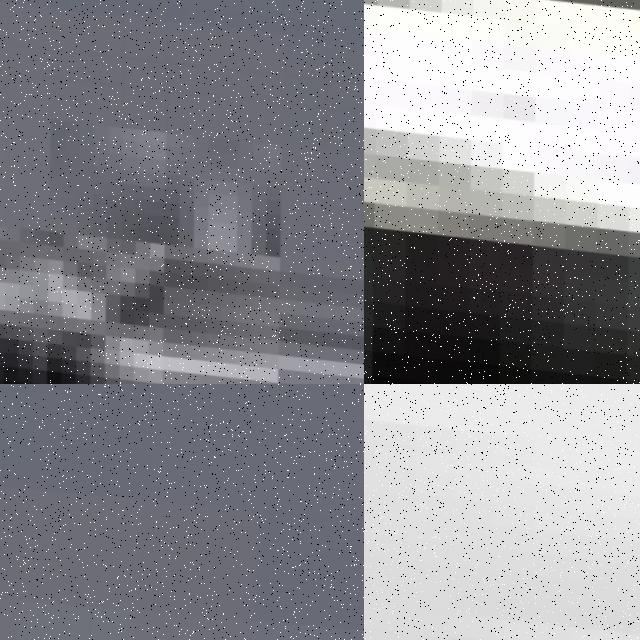0: (0, 0, 364, 384)
drone: (364, 0, 640, 384), (364, 384, 640, 640)
